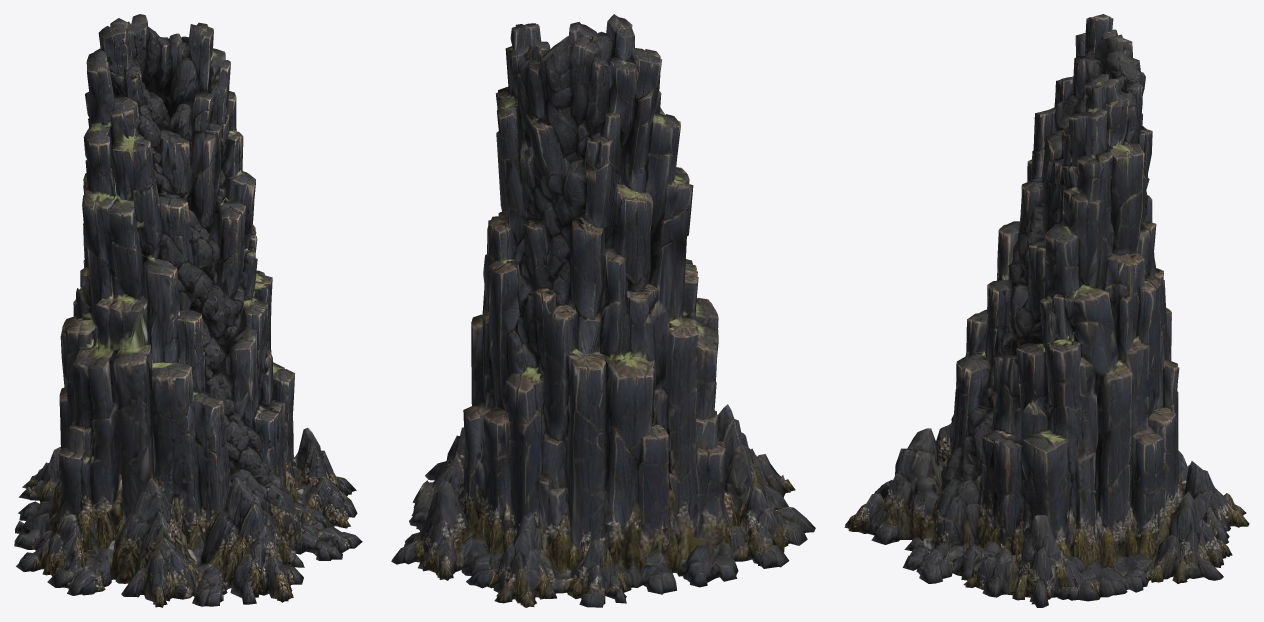
Rendered from basalt_caldera.glb.
The picture shows the model from 3 angles, left to right: view 1: azimuth 30°, elevation 25°; view 2: azimuth 150°, elevation 25°; view 3: azimuth 270°, elevation 25°; orthographic projection. The views are drawn at different scales.
Visible parts, largest first — view 1: Model; view 2: Model; view 3: Model.
Part boxes in pixels (box(x1,y1,x2,y2)): Model: box(14, 14, 362, 607); Model: box(391, 14, 815, 607); Model: box(844, 14, 1249, 607).
Size of the model in its own units: 56.43 by 80 by 59.44.
Materials: 1 (1 with a texture image).
